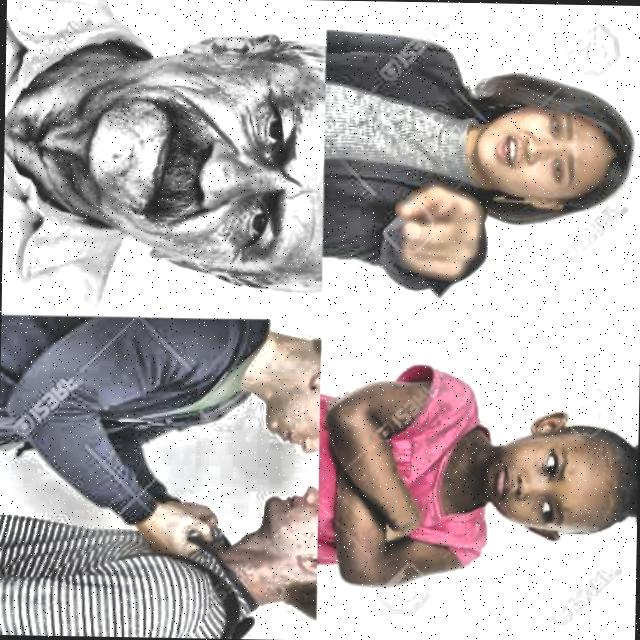angry: (389, 396, 639, 552), (228, 314, 342, 459)
neutral: (53, 16, 325, 297), (443, 64, 640, 239), (223, 467, 336, 636)
